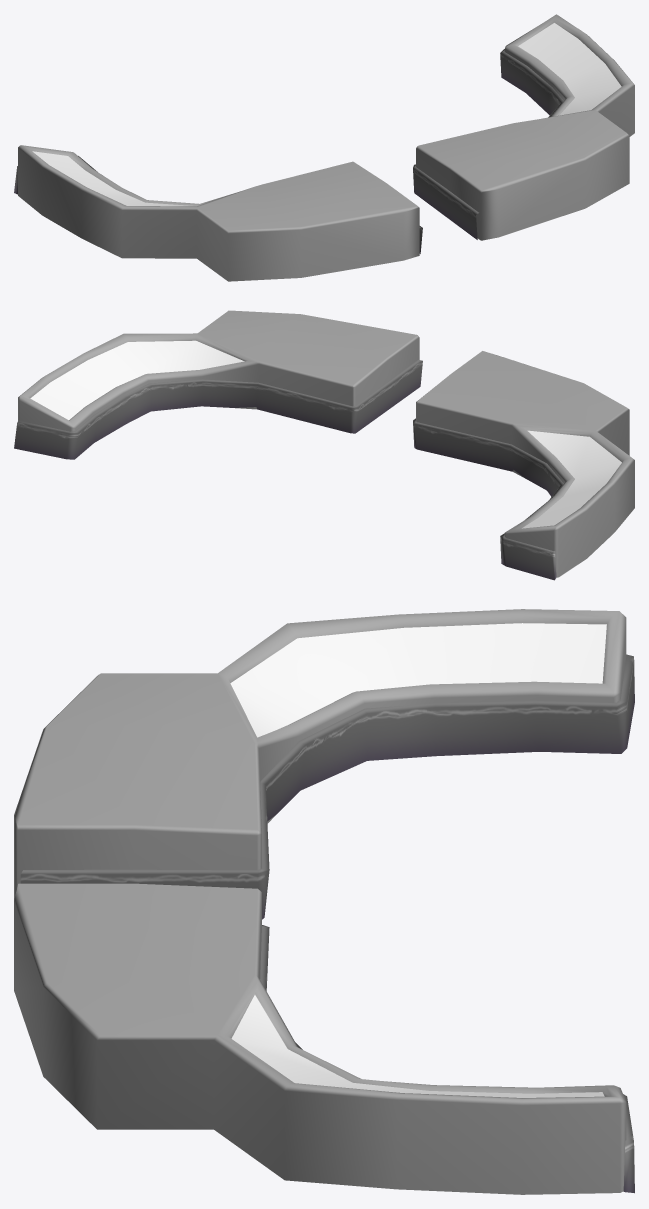
File: ControlPanel.fbx
3 renders of one model, top to bottom at view 1: azimuth 30°, elevation 25°; view 2: azimuth 150°, elevation 25°; view 3: azimuth 270°, elevation 25°, orthographic. The views are drawn at different scales.
Parts seen in each view (by area): view 1: Console; view 2: Console; view 3: Console.
Boxes of the visible parts, x1,y1,x2,y2 form: Console: (14,14,634,281); Console: (14,310,634,580); Console: (14,609,634,1194).
Size of the model in its own units: 5.68 by 0.5013 by 3.01.
2 materials, 1 textured.
